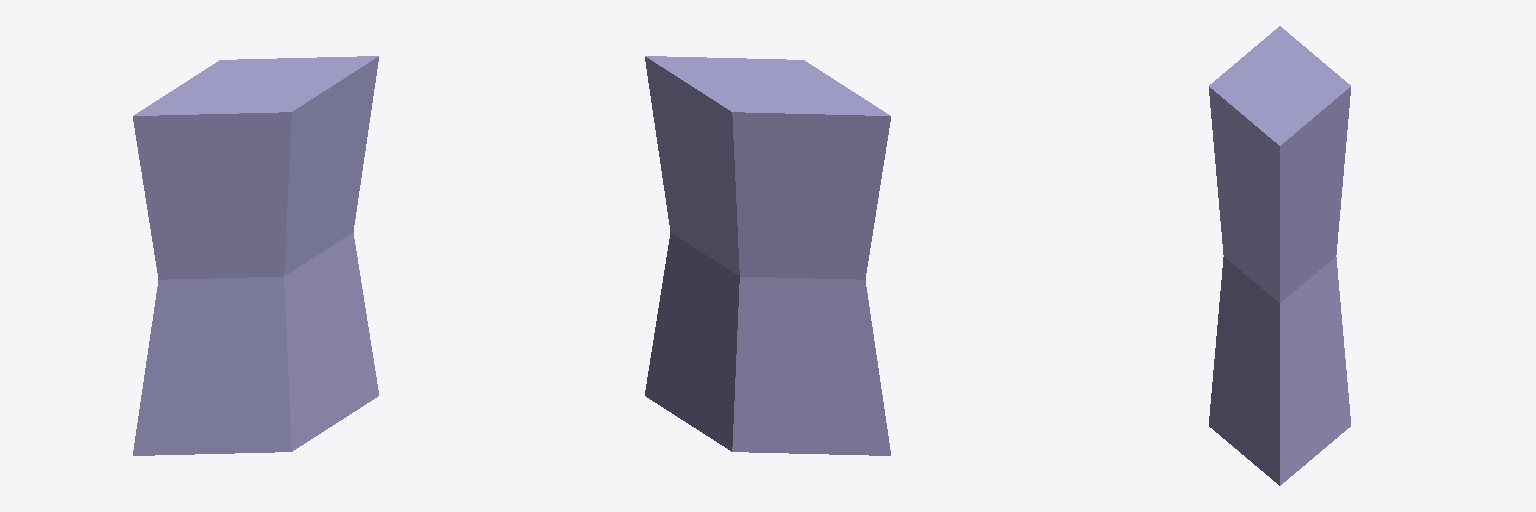
File: sword_special.obj
3 views of the same model, side by side, from view 1: azimuth 30°, elevation 25°; view 2: azimuth 150°, elevation 25°; view 3: azimuth 270°, elevation 25° (orthographic).
Parts seen in each view (by area): view 1: mergedBlocks; view 2: mergedBlocks; view 3: mergedBlocks.
Boxes of the visible parts, <box> form: mergedBlocks: <box>133,56,378,455</box>; mergedBlocks: <box>645,56,890,455</box>; mergedBlocks: <box>1209,26,1350,485</box>.
Size of the model in its own units: 0.0038 by 0.005 by 0.0019.